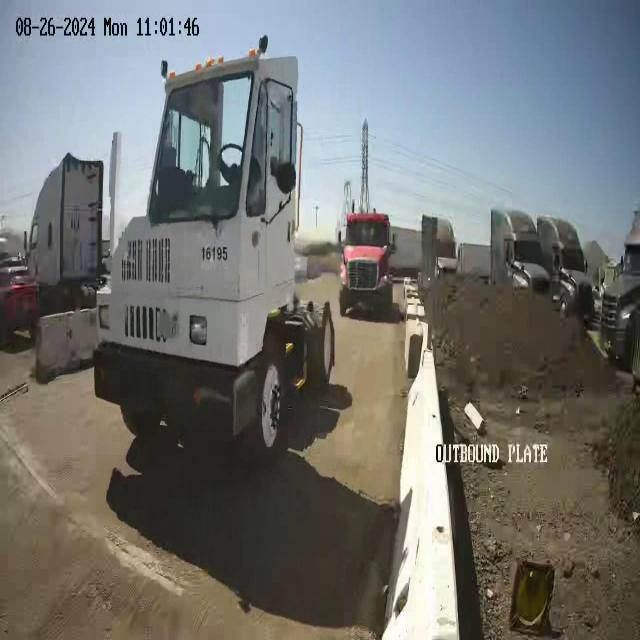TRUCK_OUT: (92, 33, 336, 454)
